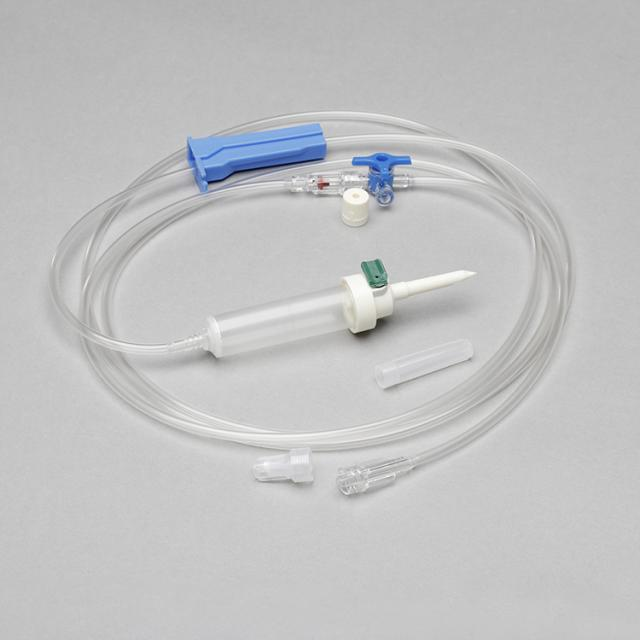B3: (41, 99, 583, 501)
